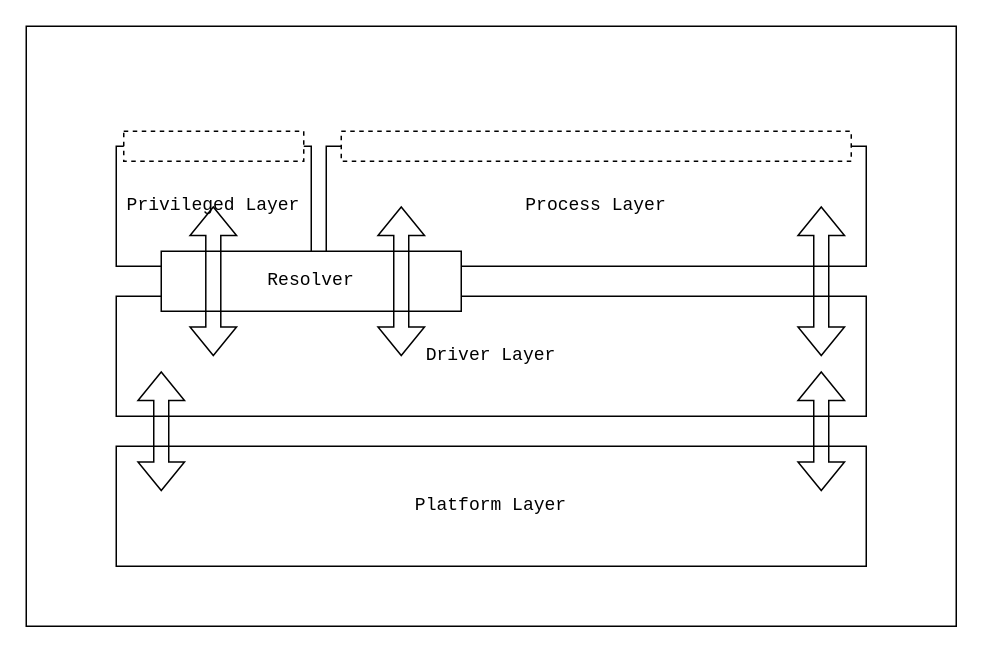
This 983x653 diagram has some shape labels left out. Here are the shapes that lost their labels. From the top down, the centre of each, then its label:
At pixel 213 145: "Command Interface".
At pixel 595 145: "DSL Runtime".
